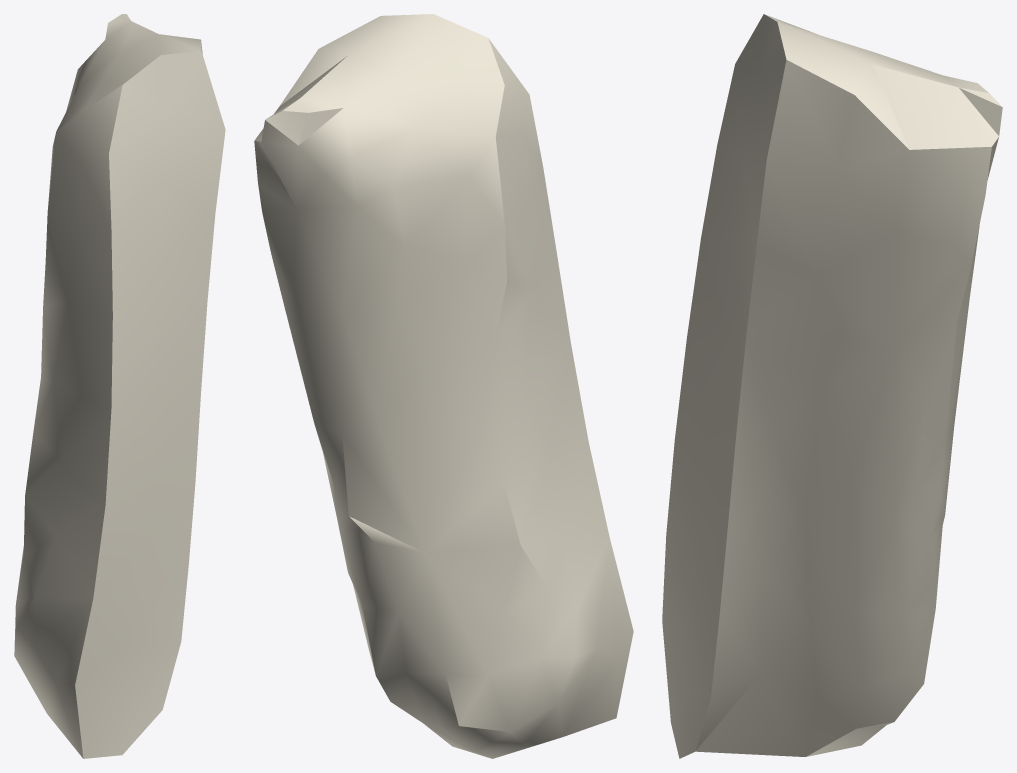
The model's file is fma42312_mm2006.glb.
3 renders of one model, left to right at view 1: azimuth 30°, elevation 25°; view 2: azimuth 150°, elevation 25°; view 3: azimuth 270°, elevation 25°, orthographic. The views are drawn at different scales.
Visible parts, largest first — view 1: FMA42312_MM2006; view 2: FMA42312_MM2006; view 3: FMA42312_MM2006.
Part boxes in pixels (x1,y1,x2,y2): FMA42312_MM2006: [14, 14, 225, 758]; FMA42312_MM2006: [254, 14, 633, 758]; FMA42312_MM2006: [662, 14, 1002, 758].
Size of the model in its own units: 0.00298 by 0.00831 by 0.00327.
